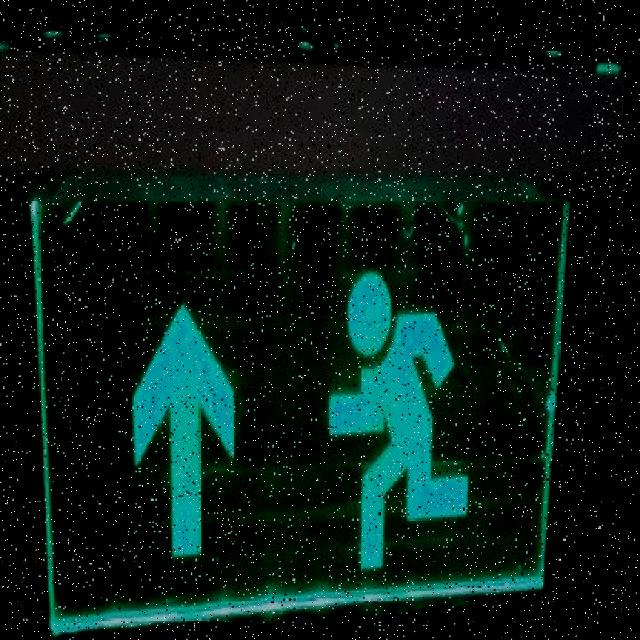emergency_exit: (29, 169, 570, 634)
